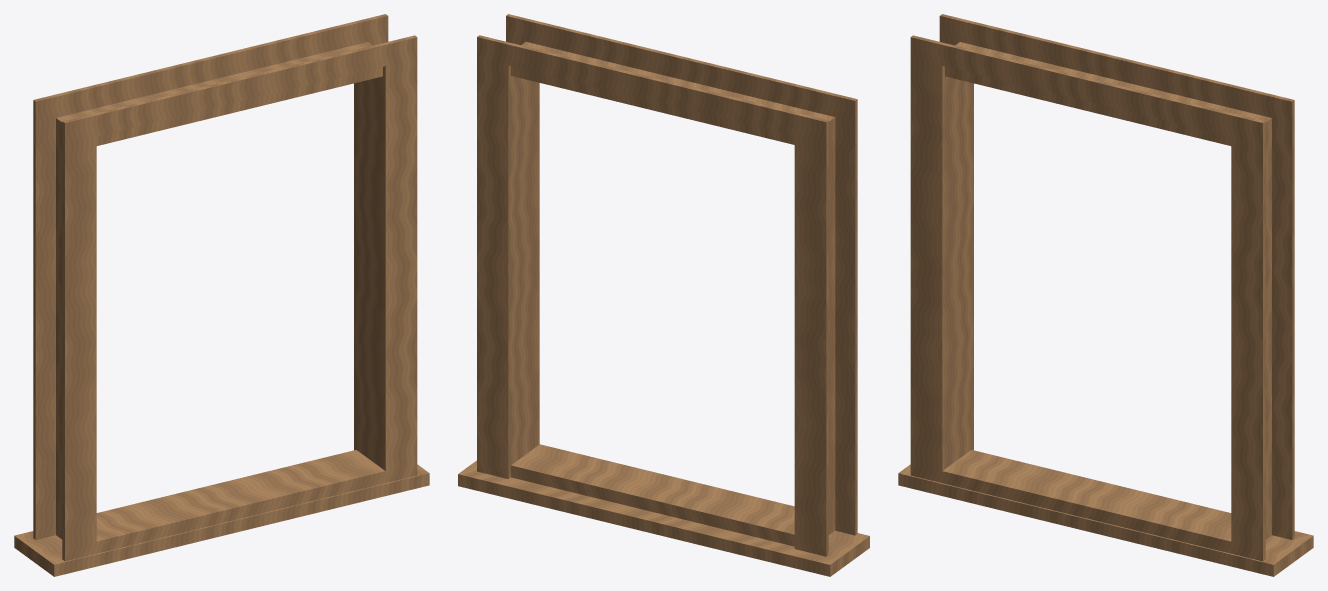
The model's file is mlo_window_frame_oak.glb.
3 renders of one model, left to right at view 1: azimuth 30°, elevation 25°; view 2: azimuth 150°, elevation 25°; view 3: azimuth 330°, elevation 25°, orthographic.
Visible parts, largest first — view 1: Window_Frame_Oak; view 2: Window_Frame_Oak; view 3: Window_Frame_Oak.
Boxes of the visible parts, x1,y1,x2,y2 form: Window_Frame_Oak: [14, 14, 429, 576]; Window_Frame_Oak: [458, 14, 869, 576]; Window_Frame_Oak: [898, 14, 1313, 576].
Bounding box in the file's own units: 1.3 × 1.49 × 0.24.
Materials: 1 (1 with a texture image).
